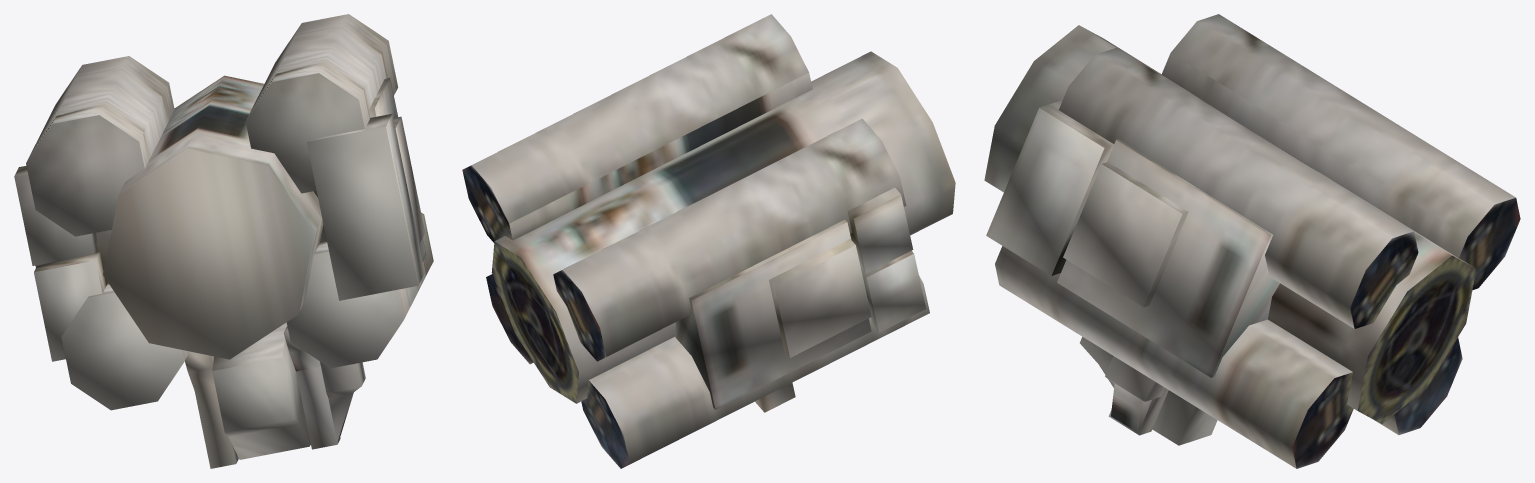
File: canadarm2_base.dae
The picture shows the model from 3 angles, left to right: view 1: azimuth 30°, elevation 25°; view 2: azimuth 150°, elevation 25°; view 3: azimuth 270°, elevation 25°; orthographic projection. The views are drawn at different scales.
Visible parts, largest first — view 1: 11 Canadarm2; view 2: 11 Canadarm2; view 3: 11 Canadarm2.
Boxes of the visible parts, x1,y1,x2,y2 form: 11 Canadarm2: [14, 14, 433, 468]; 11 Canadarm2: [462, 14, 955, 468]; 11 Canadarm2: [984, 14, 1520, 468].
Size of the model in its own units: 1.25 by 1.41 by 1.12.
1 material, 1 textured.
